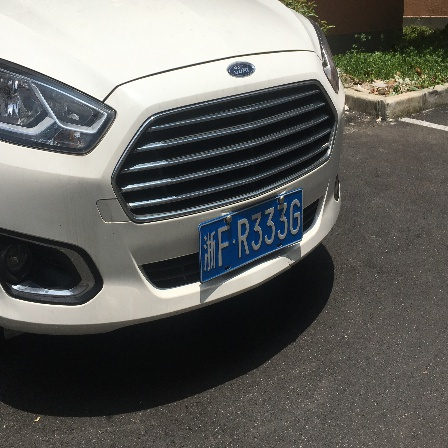plate: (191, 194, 311, 274)
